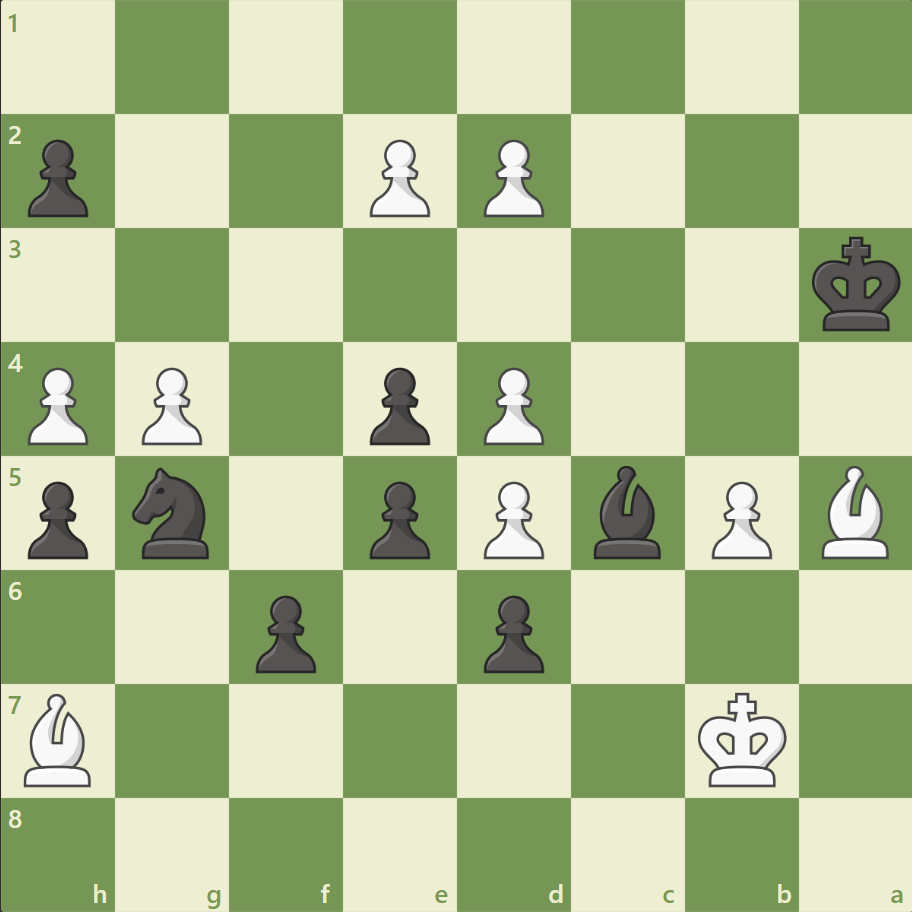B: (17, 687, 101, 790), (812, 460, 896, 563)
K: (692, 685, 792, 793)
P: (701, 473, 776, 564), (474, 473, 549, 564), (474, 359, 549, 450), (133, 359, 208, 450), (20, 359, 95, 450), (474, 132, 549, 223), (361, 132, 435, 223)
b: (585, 460, 669, 563)
k: (806, 231, 906, 339)
n: (124, 461, 222, 564)
p: (474, 586, 549, 677), (247, 586, 322, 677), (20, 473, 95, 564), (20, 132, 95, 223), (361, 473, 435, 564), (361, 359, 435, 450)
